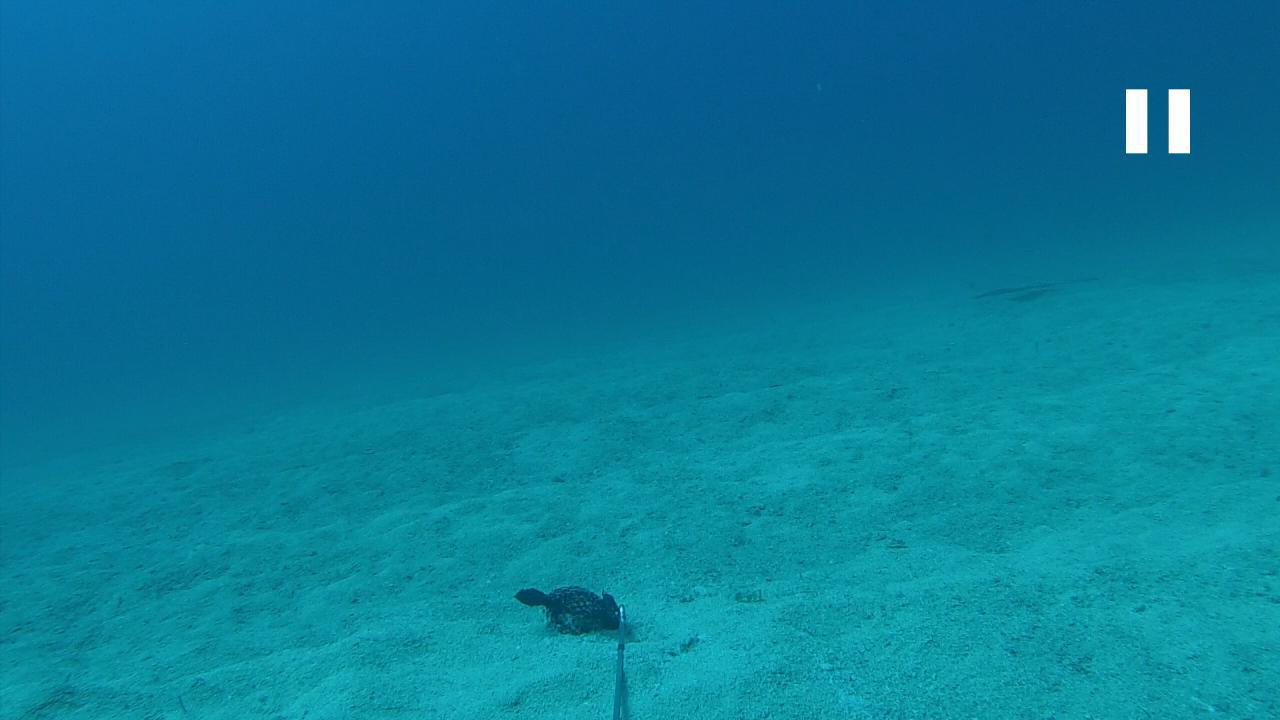dasyatis: (966, 274, 1108, 300)
